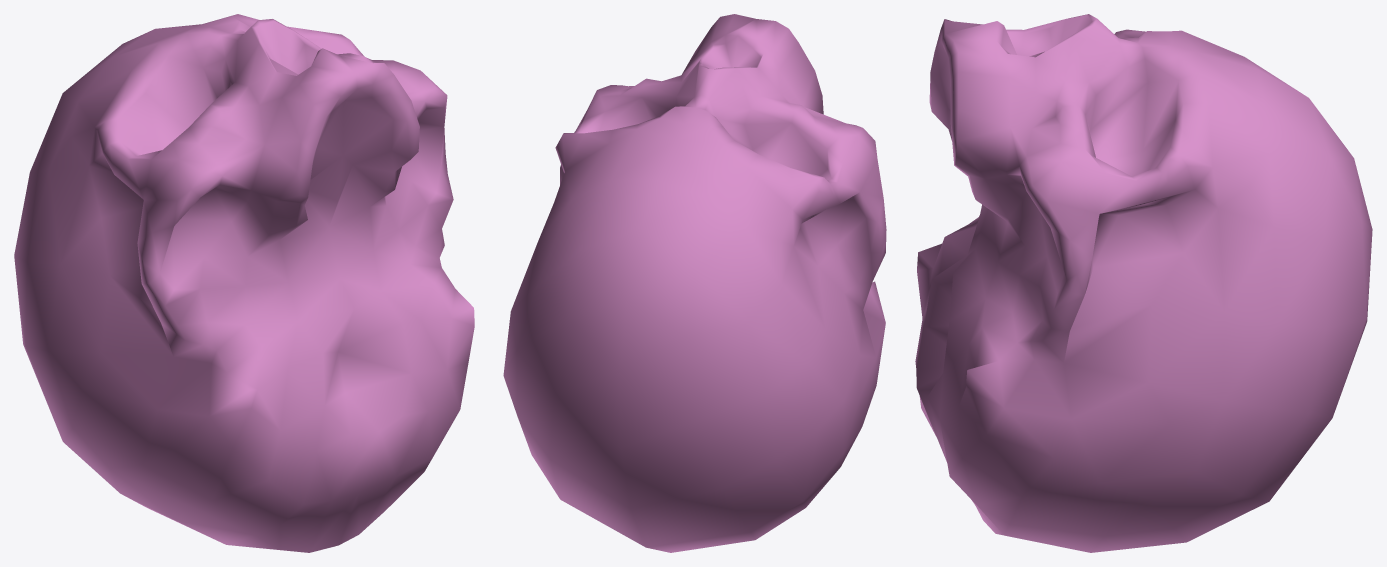
Rendered from Bone_007_2.FBX.
3 views of the same model, side by side, from view 1: azimuth 30°, elevation 25°; view 2: azimuth 150°, elevation 25°; view 3: azimuth 270°, elevation 25° (orthographic). The views are drawn at different scales.
Visible parts, largest first — view 1: Bone_007_2_LOD0; view 2: Bone_007_2_LOD0; view 3: Bone_007_2_LOD0.
Part boxes in pixels (x1,y1,x2,y2): Bone_007_2_LOD0: (14,14,474,552); Bone_007_2_LOD0: (503,14,886,552); Bone_007_2_LOD0: (915,14,1372,552).
Size of the model in its own units: 32.13 by 35.41 by 44.37.
